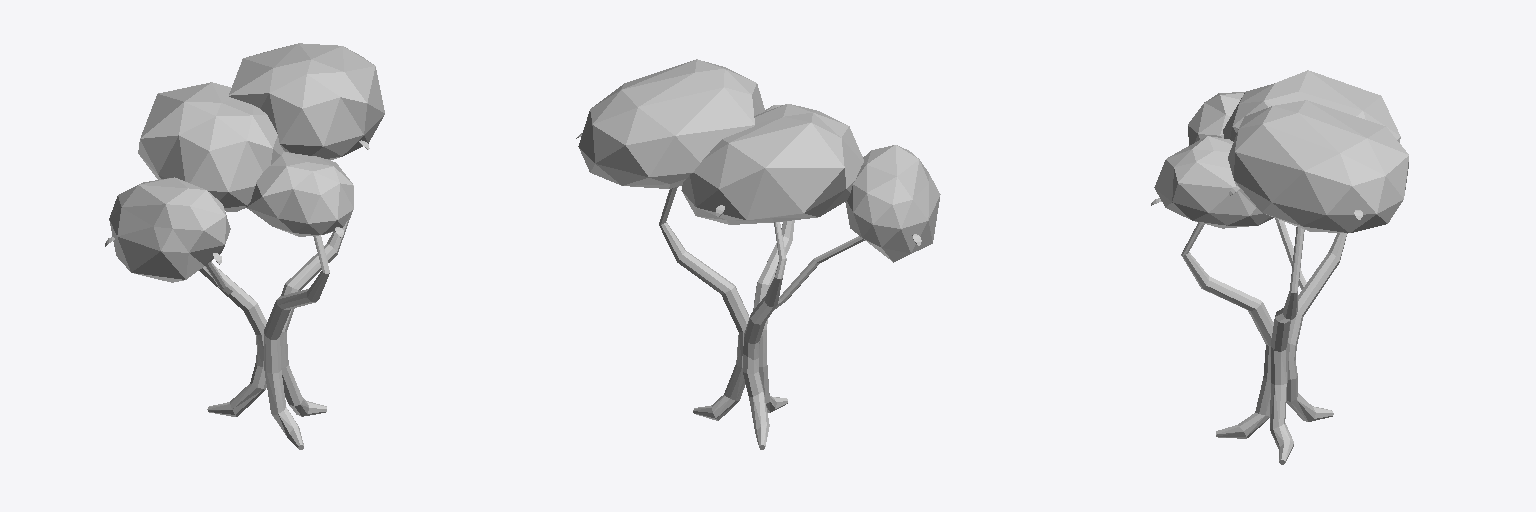
File: tree1.obj
3 views of the same model, side by side, from view 1: azimuth 30°, elevation 25°; view 2: azimuth 150°, elevation 25°; view 3: azimuth 270°, elevation 25° (orthographic).
Parts seen in each view (by area): view 1: Tree_6_Tree_6_Cylinder.005; view 2: Tree_6_Tree_6_Cylinder.005; view 3: Tree_6_Tree_6_Cylinder.005.
Part boxes in pixels (x1,y1,x2,y2): Tree_6_Tree_6_Cylinder.005: (105, 43, 384, 449); Tree_6_Tree_6_Cylinder.005: (576, 59, 940, 449); Tree_6_Tree_6_Cylinder.005: (1151, 70, 1408, 464).
Bounding box in the file's own units: 5.17 × 5.67 × 3.81.